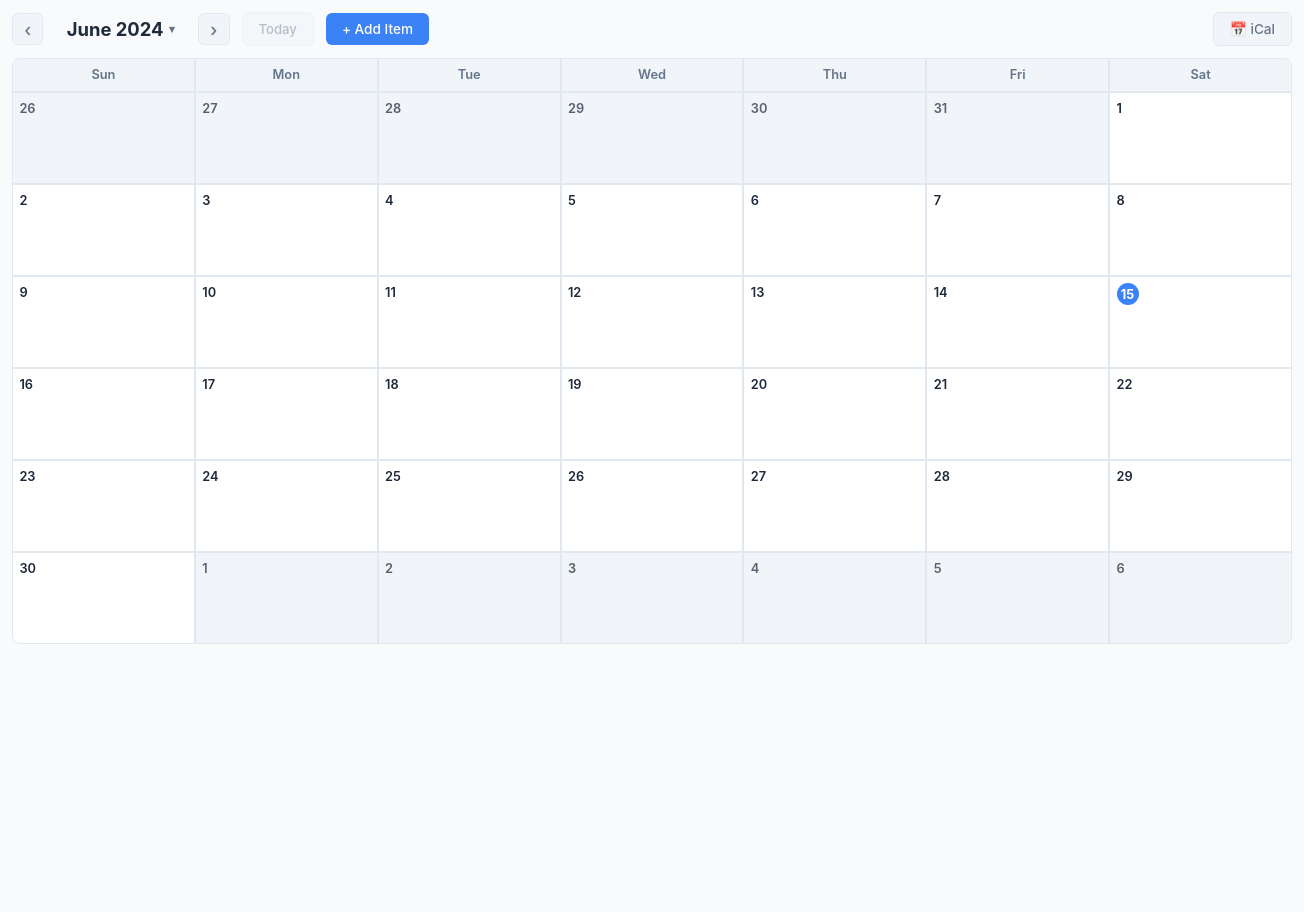
Test case: CalendarView › navigates to previous month
Click the button with class "nav-btn" showing "‹". click: (28, 29)
box: [12,13,43,45]
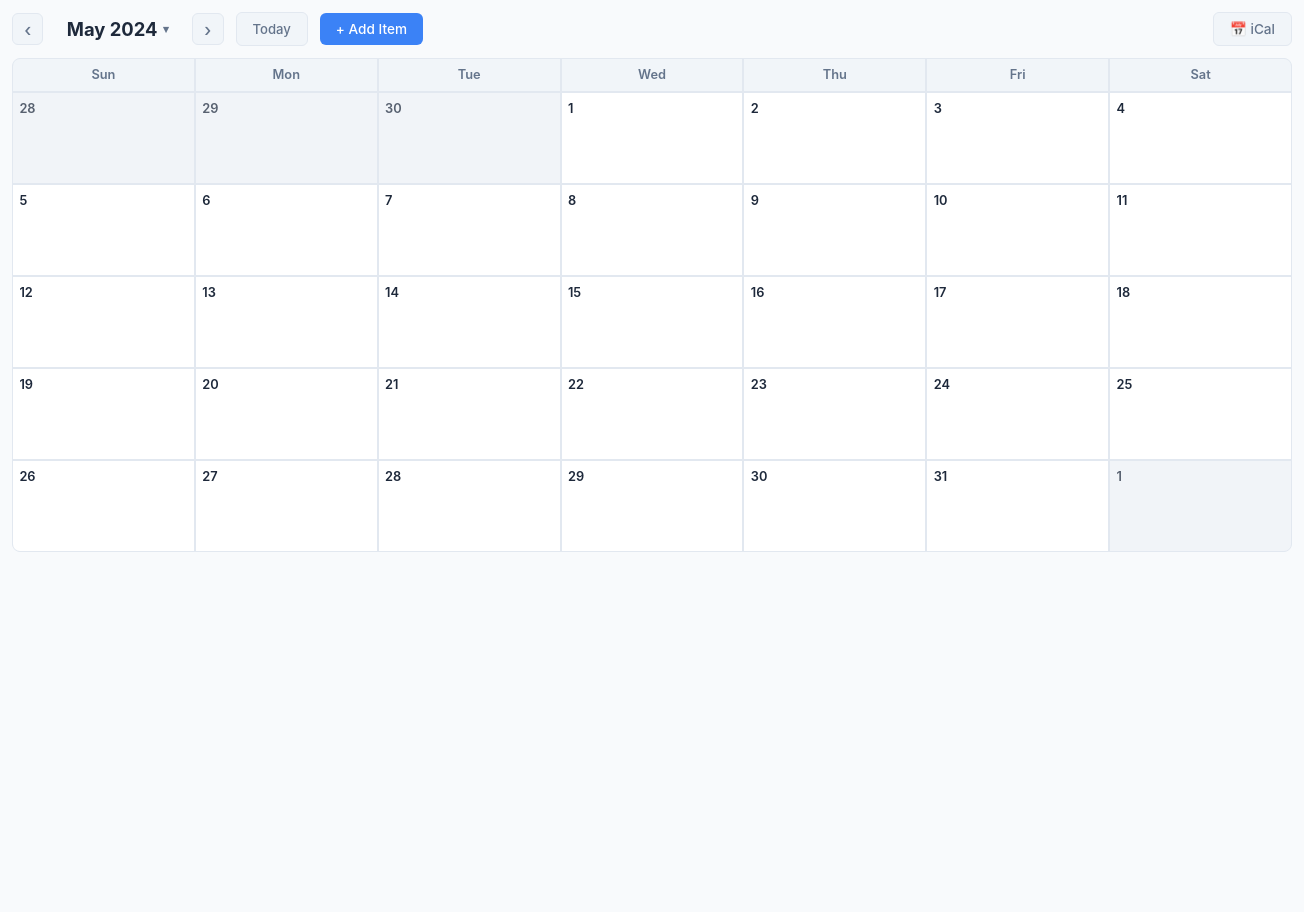
Result: the text "May 2024" is shown at [55,12,180,46]
